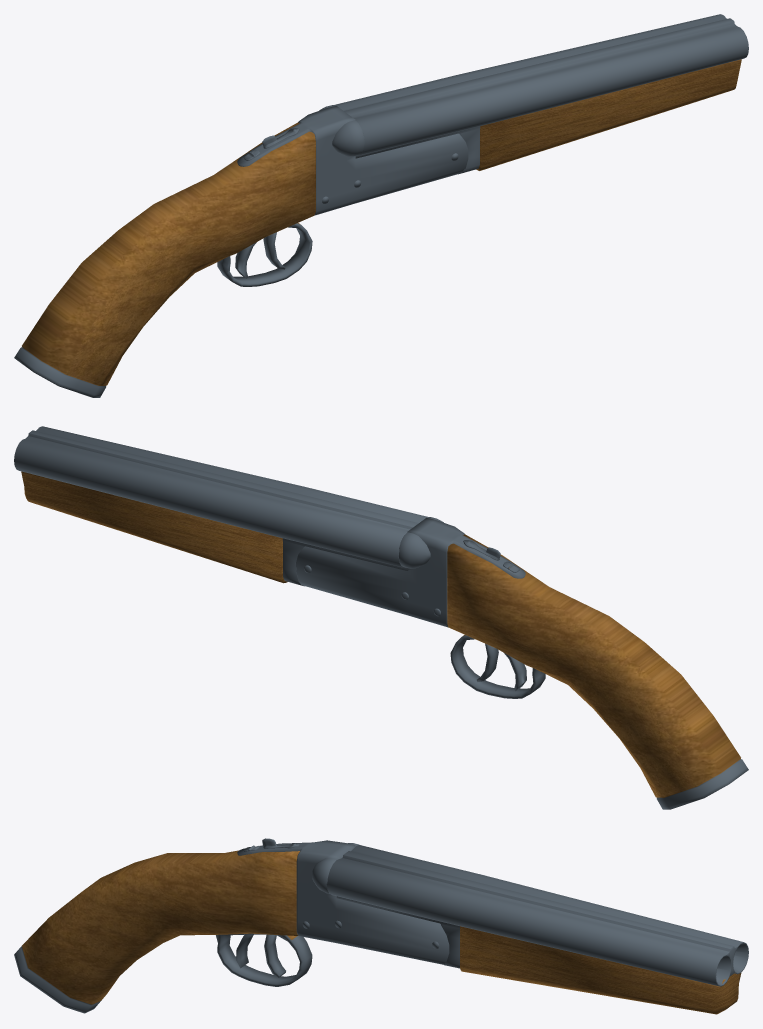
Rendered from jean-doublebarrel-safe.glb.
3 renders of one model, top to bottom at view 1: azimuth 30°, elevation 25°; view 2: azimuth 150°, elevation 25°; view 3: azimuth 330°, elevation 25°, orthographic.
Visible parts, largest first — view 1: Circle.004, Cylinder, Cylinder.007; view 2: Circle.004, Cylinder, Cylinder.007; view 3: Circle.004, Cylinder, Cylinder.007.
Boxes of the visible parts, <box> form: Circle.004: <box>14,105,468,397</box>; Cylinder: <box>334,14,748,174</box>; Cylinder.007: <box>235,232,285,278</box>; Circle.004: <box>296,517,748,809</box>; Cylinder: <box>14,426,428,586</box>; Cylinder.007: <box>477,643,526,691</box>; Circle.004: <box>14,838,449,1013</box>; Cylinder: <box>326,845,748,1014</box>; Cylinder.007: <box>236,934,285,977</box>.
Size of the model in its own units: 4.53 by 1.33 by 0.425.
Materials: 5 (2 with a texture image).
